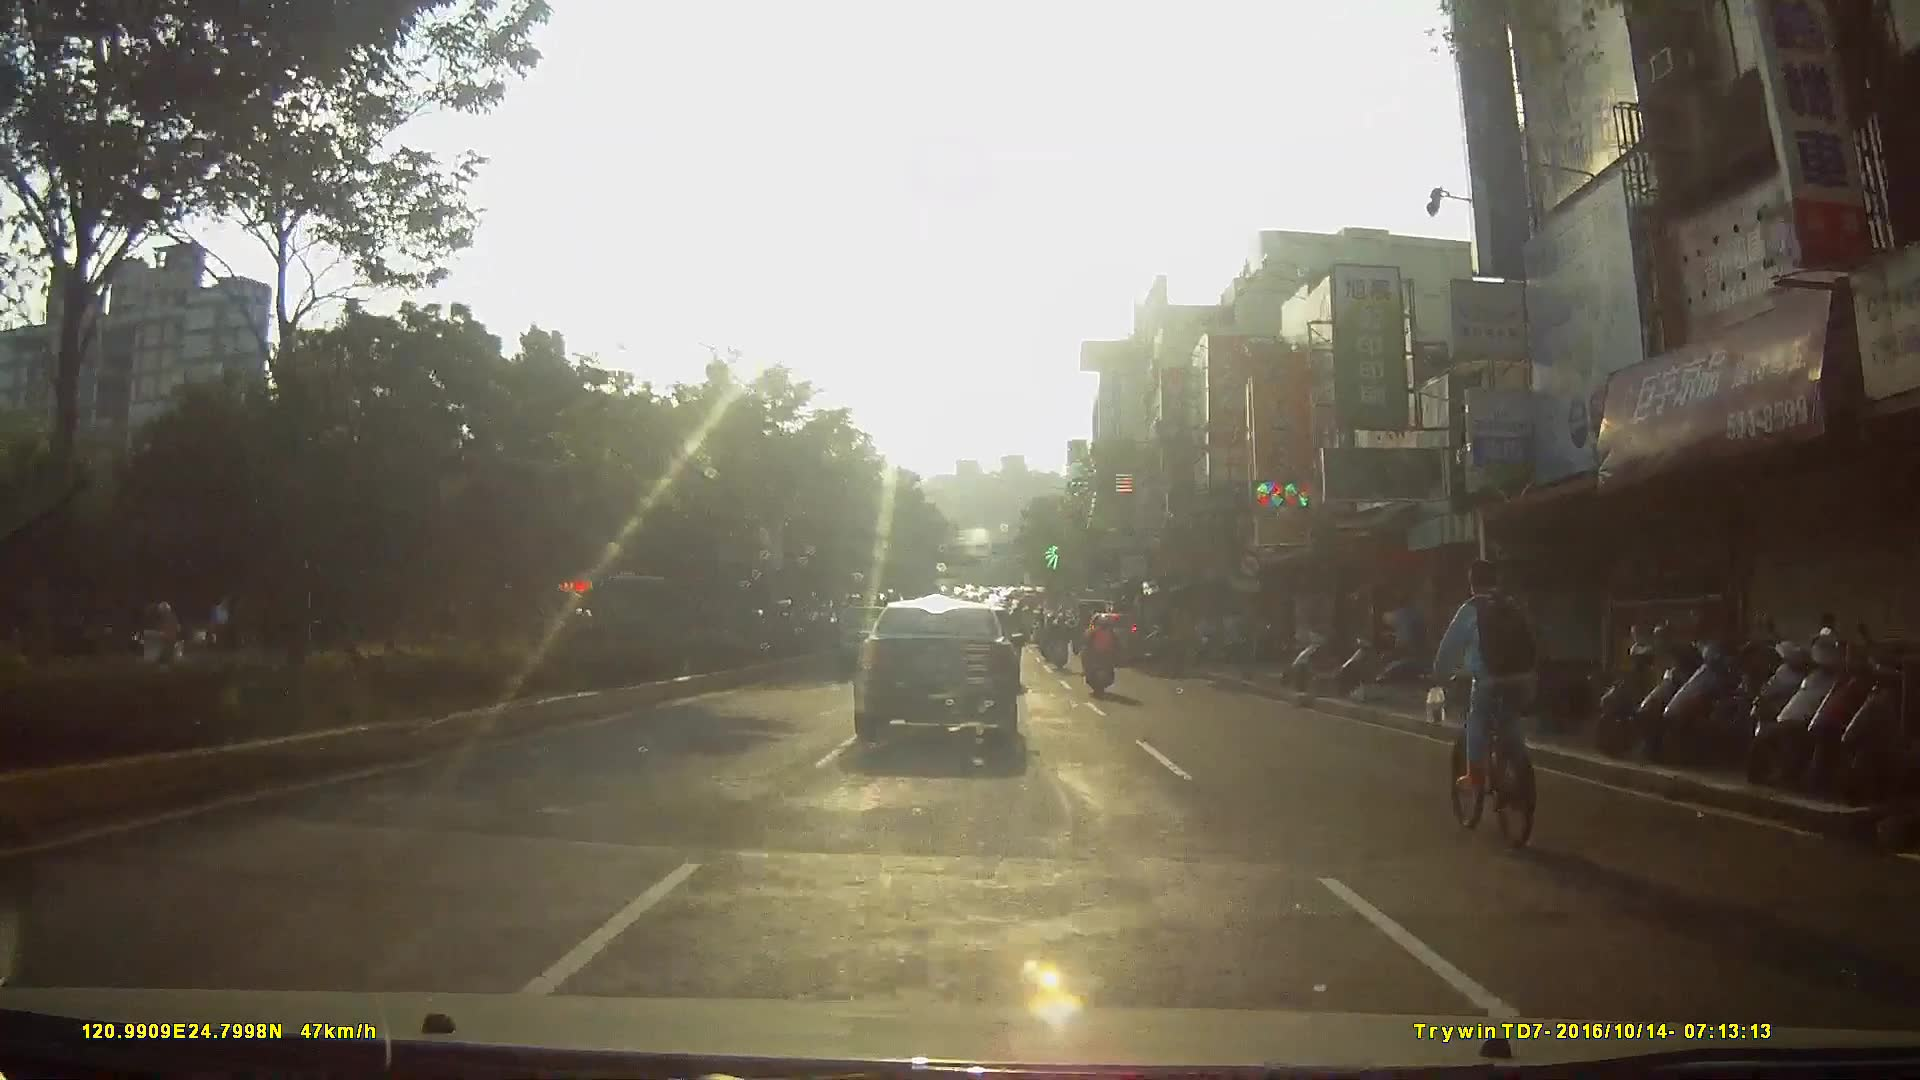rider: (1429, 565, 1540, 848), (132, 598, 190, 694), (1079, 620, 1119, 711), (1045, 617, 1072, 676)
vehicle: (849, 599, 1036, 767), (1081, 609, 1150, 670)
